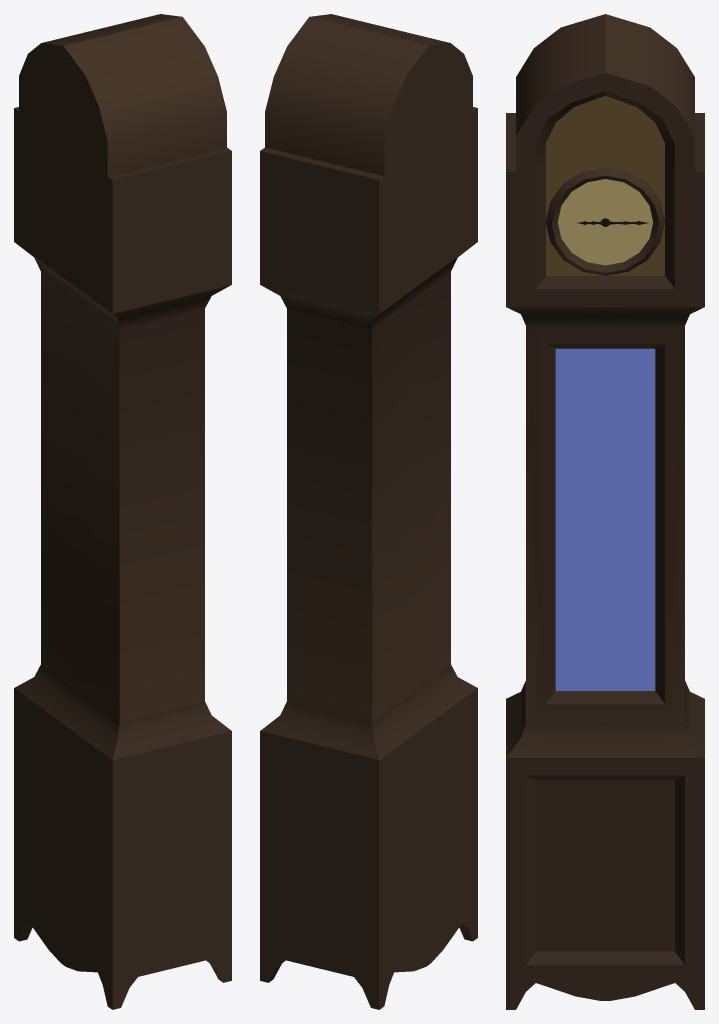
File: grandfather_clock.fbx
The picture shows the model from 3 angles, left to right: view 1: azimuth 30°, elevation 25°; view 2: azimuth 150°, elevation 25°; view 3: azimuth 270°, elevation 25°; orthographic projection.
Visible parts, largest first — view 1: Clock, Cube.001; view 2: Clock, Cube.001; view 3: Clock, Plane.001, Cylinder, Cube.001.
Boxes of the visible parts, bbox=[...] form: Clock: bbox=[14, 14, 231, 982]; Cube.001: bbox=[14, 911, 231, 1009]; Clock: bbox=[260, 14, 477, 982]; Cube.001: bbox=[260, 911, 477, 1009]; Clock: bbox=[506, 14, 704, 982]; Plane.001: bbox=[555, 348, 655, 690]; Cylinder: bbox=[546, 167, 664, 275]; Cube.001: bbox=[506, 983, 704, 1009].
Bounding box in the file's own units: 140 × 1040 × 200.
